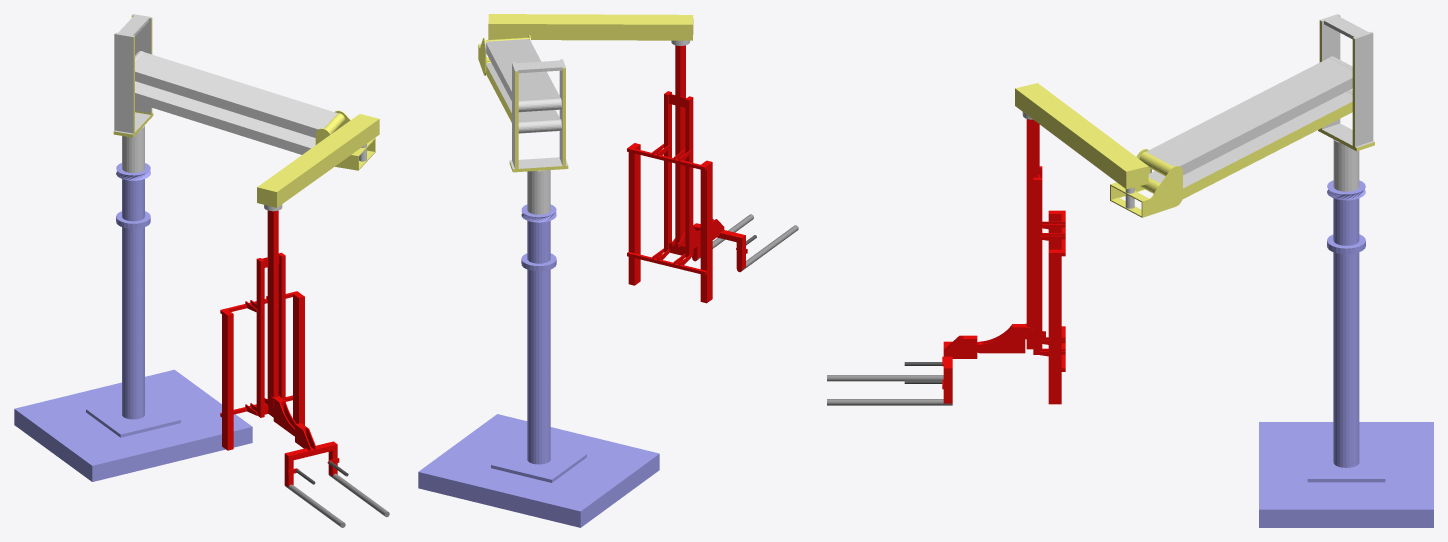
Rendered from ai.robot.glb.
3 views of the same model, side by side, from view 1: azimuth 30°, elevation 25°; view 2: azimuth 150°, elevation 25°; view 3: azimuth 270°, elevation 25° (orthographic). The views are drawn at different scales.
Visible parts, largest first — view 1: imagetostl_mesh417, imagetostl_mesh521, imagetostl_mesh437, imagetostl_mesh523, imagetostl_mesh240, imagetostl_mesh489, imagetostl_mesh641, imagetostl_mesh524, imagetostl_mesh241, imagetostl_mesh424, imagetostl_mesh438, imagetostl_mesh360 (+18 smaller); view 2: imagetostl_mesh417, imagetostl_mesh243, imagetostl_mesh440, imagetostl_mesh521, imagetostl_mesh240, imagetostl_mesh424, imagetostl_mesh369, imagetostl_mesh438, imagetostl_mesh360, imagetostl_mesh468, imagetostl_mesh249, imagetostl_mesh368 (+14 smaller); view 3: imagetostl_mesh417, imagetostl_mesh521, imagetostl_mesh436, imagetostl_mesh240, imagetostl_mesh523, imagetostl_mesh364, imagetostl_mesh424, imagetostl_mesh488, imagetostl_mesh241, imagetostl_mesh386, imagetostl_mesh525, imagetostl_mesh395 (+6 smaller).
Part boxes in pixels (x1,y1,x2,y2): imagetostl_mesh417: (14, 369, 252, 465); imagetostl_mesh521: (135, 52, 337, 129); imagetostl_mesh437: (92, 427, 252, 481); imagetostl_mesh523: (135, 82, 315, 148); imagetostl_mesh240: (257, 114, 379, 191); imagetostl_mesh489: (114, 34, 133, 133); imagetostl_mesh641: (135, 71, 317, 137); imagetostl_mesh524: (135, 93, 310, 154); imagetostl_mesh241: (277, 119, 379, 207); imagetostl_mesh424: (86, 394, 180, 434); imagetostl_mesh438: (14, 409, 92, 481); imagetostl_mesh360: (267, 210, 273, 398); imagetostl_mesh417: (418, 414, 659, 511); imagetostl_mesh243: (488, 24, 692, 40); imagetostl_mesh440: (418, 472, 580, 527); imagetostl_mesh521: (486, 39, 560, 100); imagetostl_mesh240: (488, 14, 693, 24); imagetostl_mesh424: (491, 439, 586, 479); imagetostl_mesh369: (669, 45, 685, 255); imagetostl_mesh438: (580, 454, 659, 527); imagetostl_mesh360: (680, 45, 685, 240); imagetostl_mesh468: (512, 68, 568, 172); imagetostl_mesh249: (634, 144, 640, 285); imagetostl_mesh368: (705, 162, 712, 302); imagetostl_mesh417: (1259, 422, 1433, 509); imagetostl_mesh521: (1146, 58, 1352, 166); imagetostl_mesh436: (1259, 509, 1433, 527); imagetostl_mesh240: (1015, 83, 1148, 171); imagetostl_mesh523: (1148, 91, 1352, 188); imagetostl_mesh364: (1048, 253, 1065, 404); imagetostl_mesh424: (1307, 446, 1385, 478); imagetostl_mesh488: (1355, 33, 1373, 146); imagetostl_mesh241: (1015, 88, 1126, 188); imagetostl_mesh386: (1026, 119, 1039, 329); imagetostl_mesh525: (1180, 78, 1352, 175); imagetostl_mesh395: (1182, 101, 1352, 199).
Bounding box in the file's own units: 1.82 × 3.07 × 3.69.
